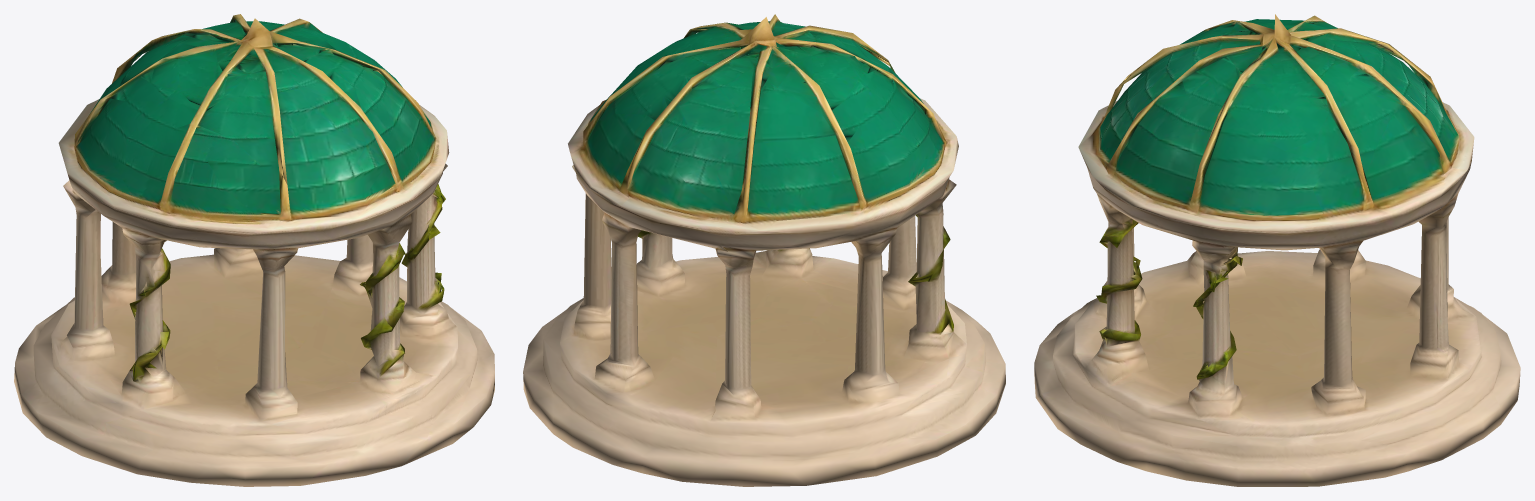
The model's file is gazebo-Av8LfPgm.glb.
3 views of the same model, side by side, from view 1: azimuth 30°, elevation 25°; view 2: azimuth 150°, elevation 25°; view 3: azimuth 270°, elevation 25° (orthographic).
Parts seen in each view (by area): view 1: gazebo; view 2: gazebo; view 3: gazebo.
Boxes of the visible parts, bbox=[...] form: gazebo: bbox=[14, 14, 494, 486]; gazebo: bbox=[523, 14, 1005, 486]; gazebo: bbox=[1034, 14, 1520, 486].
Size of the model in its own units: 5.5 by 4.65 by 5.5.
Materials: 1 (1 with a texture image).
